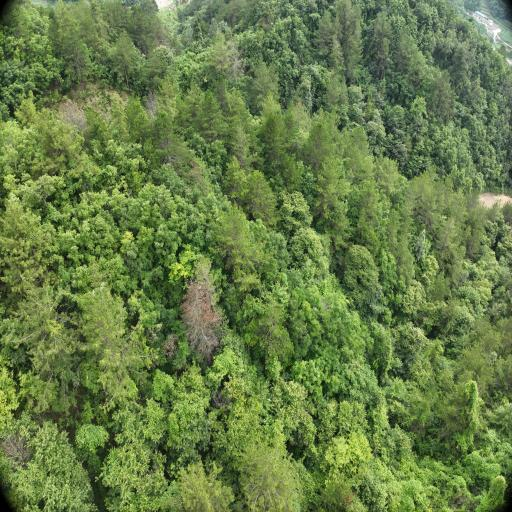dead-tree: (183, 282, 219, 354), (63, 106, 81, 123), (232, 56, 243, 79), (148, 93, 156, 117)
